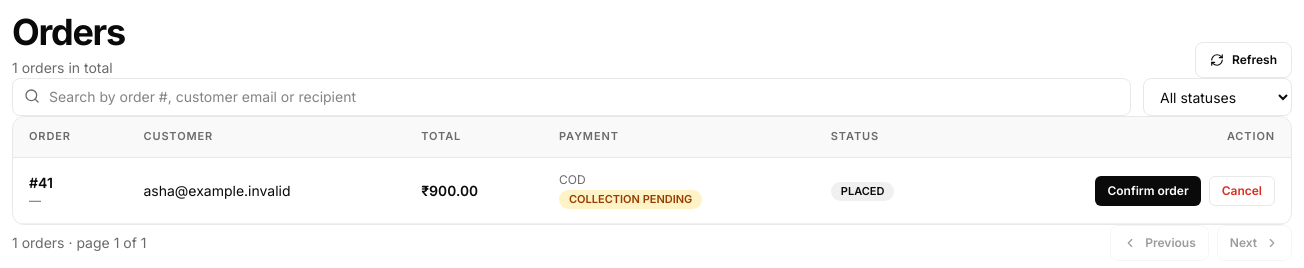
it: admin order steps › moves an order one step at a time with a single click
Expected: the text "asha@example.invalid" is shown, [127, 157, 405, 224]
Click the button with aria-label "Confirm order for order 41" at coordinates (1148, 190), box [1096, 176, 1201, 206]
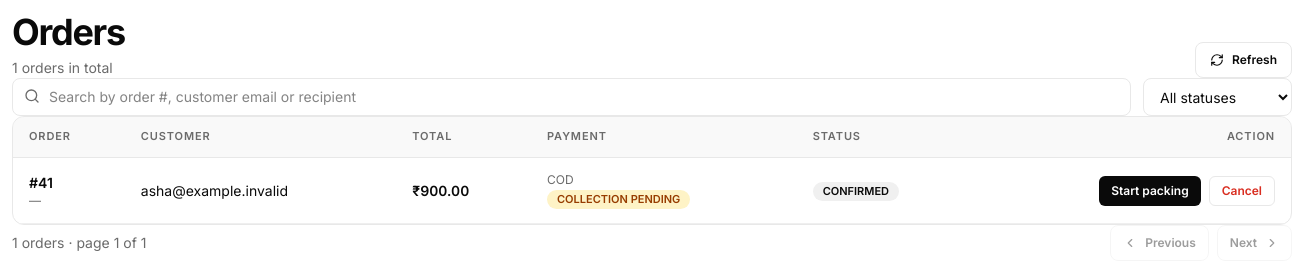
Now the button with aria-label "Start packing for order 41" is shown, box [1099, 176, 1201, 206]
